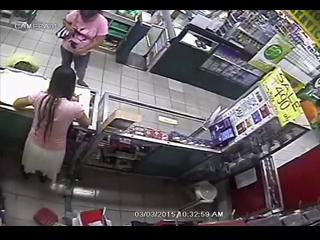Normal: (12, 65, 92, 192), (58, 10, 109, 88)
